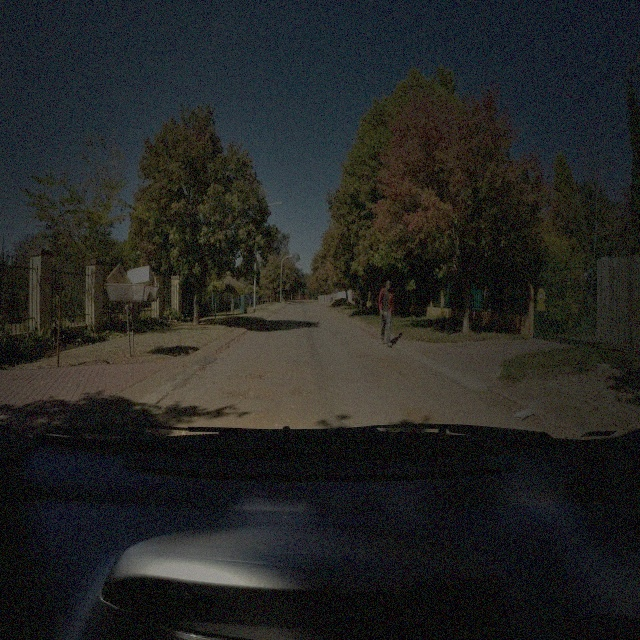pothole: (222, 388, 272, 400), (399, 407, 426, 420), (245, 369, 274, 381), (290, 388, 310, 398)
